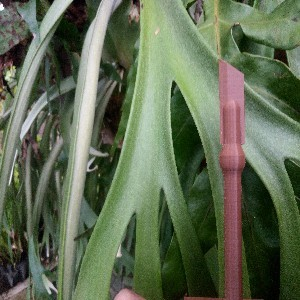cutter: (218, 60, 246, 300)
